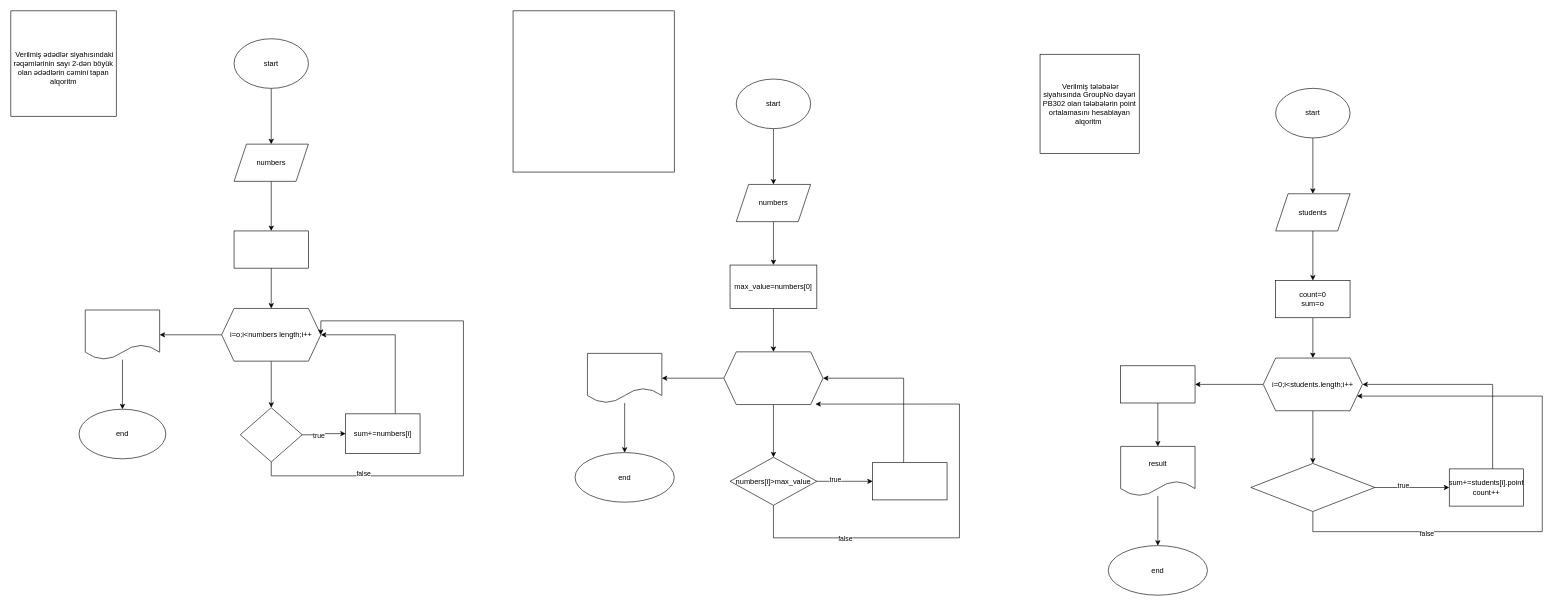
Image size: 1558x606. Some labels were removed from this diagram. Each missing label, with the centre of its shape:
i=1;i<numbers.length;i++: the point at 773,378
max_value: the point at 624,378
max_value=numbers[i]: the point at 909,481
numbers[i]>=100: the point at 271,434
result=sum/count: the point at 1157,384
students[i].groupname=="PB302": the point at 1312,487
sum: the point at 122,334
sum=0: the point at 270,249
Verilmiş ədədlər siyahısındaki ən böyük ədədi tapan alqoritm: the point at 593,91
